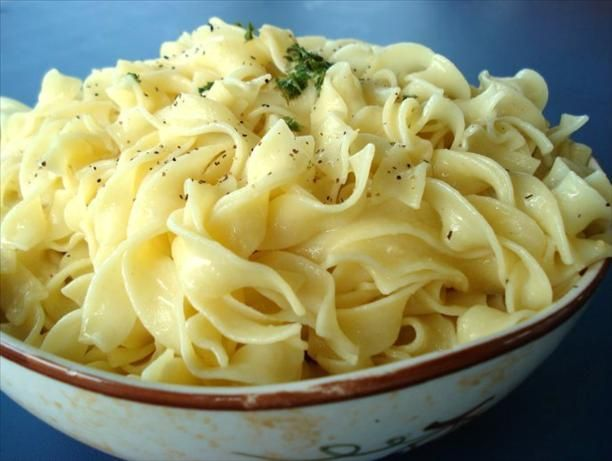plain spaghetti: (1, 32, 612, 384)
